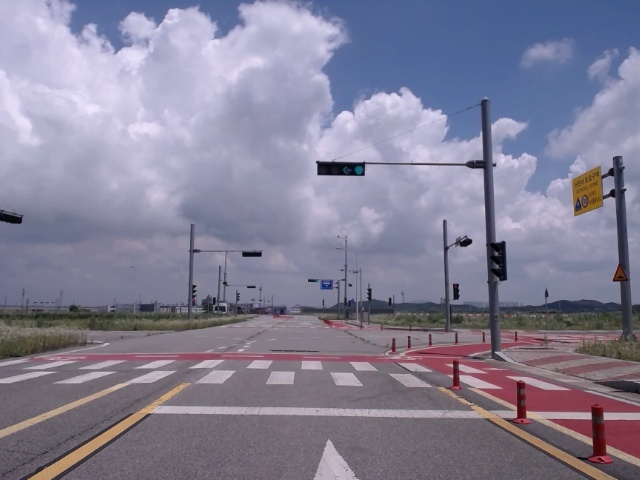all_green_4: (318, 162, 366, 178)
